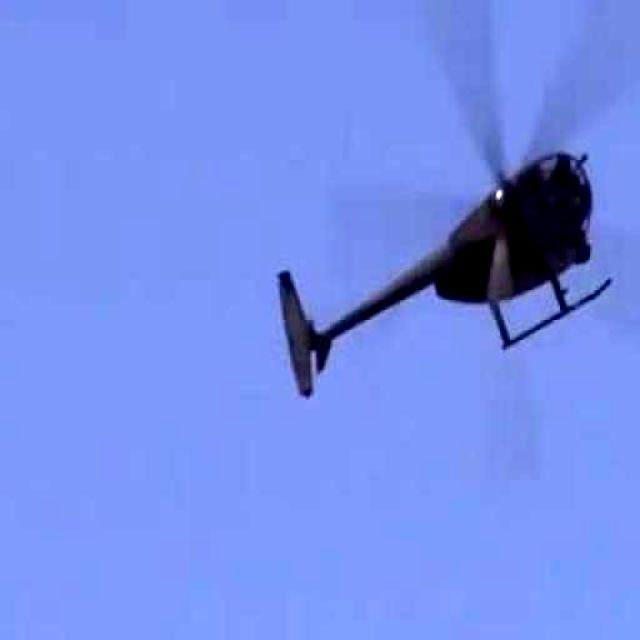drone: (239, 0, 640, 502)
